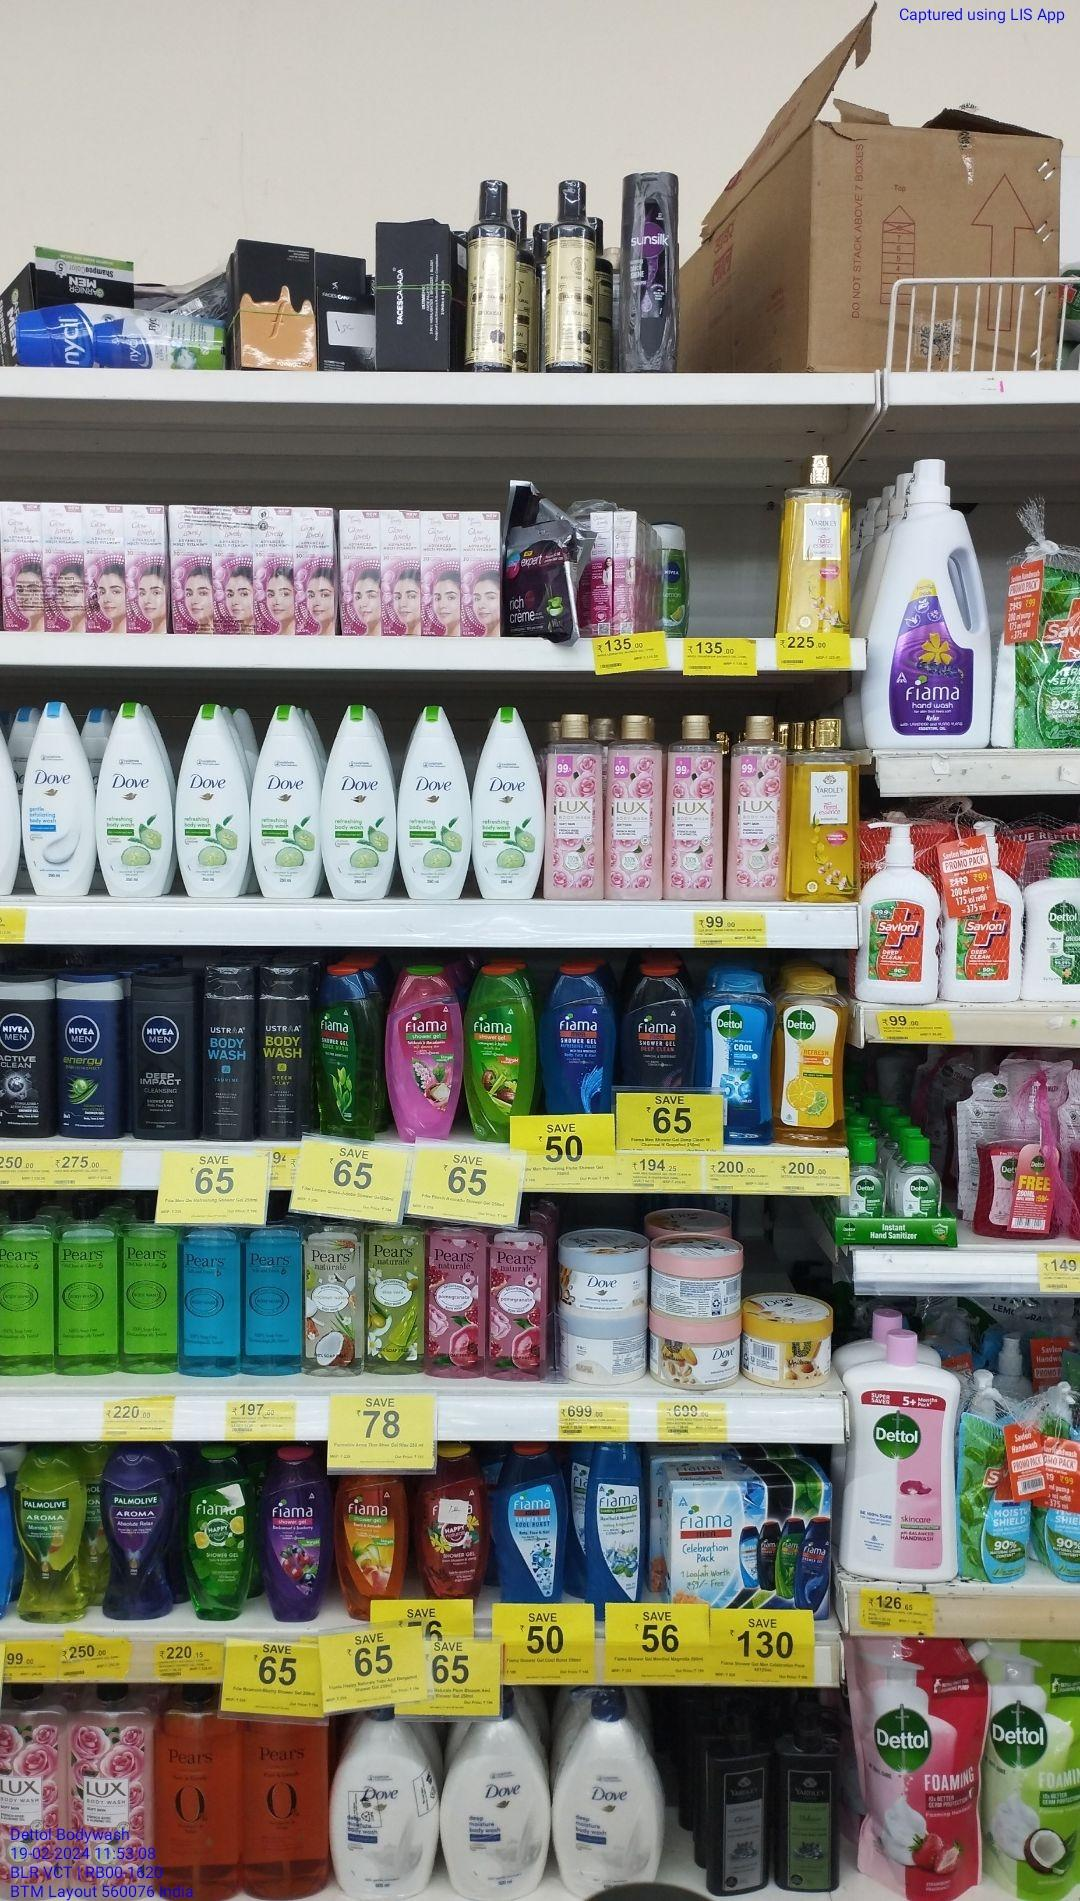Dettol_Bodywash_Cool: (708, 964, 781, 1149)
Dettol_Bodywash_Refresh: (778, 970, 844, 1148)
Dove_Gentle_Exfoliating_Body_Wash_250ML: (22, 701, 91, 894)
Dove_Refreshing_Body_Wash_250ML: (470, 705, 543, 911), (317, 709, 396, 901), (94, 701, 170, 897), (398, 708, 471, 905), (176, 704, 246, 901), (252, 708, 316, 910)
Fiama_Shower_Gel_Lemongrass_and_Jojoba_250ML: (465, 958, 542, 1136)
Fiama_Shower_Gel_Patchouli_and_Macadamia_250ML: (385, 962, 461, 1139)
Fiama_Shower_Gel_Peach_and_Avocado_250ML: (332, 1456, 401, 1619)
Palmolive_Aroma_Morning_Tonic_Shower_Gel_250ML: (18, 1445, 89, 1628)
Palmolive_Aroma_Relax_250ML: (97, 1443, 183, 1619)
Pears_Naturale_Aloe_Vera_Body_Wash_250ML: (363, 1216, 428, 1367)
Pears_Pure_Glycerin_and_Lemon_Flower_Extracts_Body_Wash_250ML: (57, 1189, 114, 1375), (0, 1192, 55, 1380), (123, 1229, 174, 1371)
Pears_Pure_Glycerin_and_Mint_Extracts_Body_Wash_250ML: (178, 1222, 244, 1372), (246, 1210, 300, 1377)
